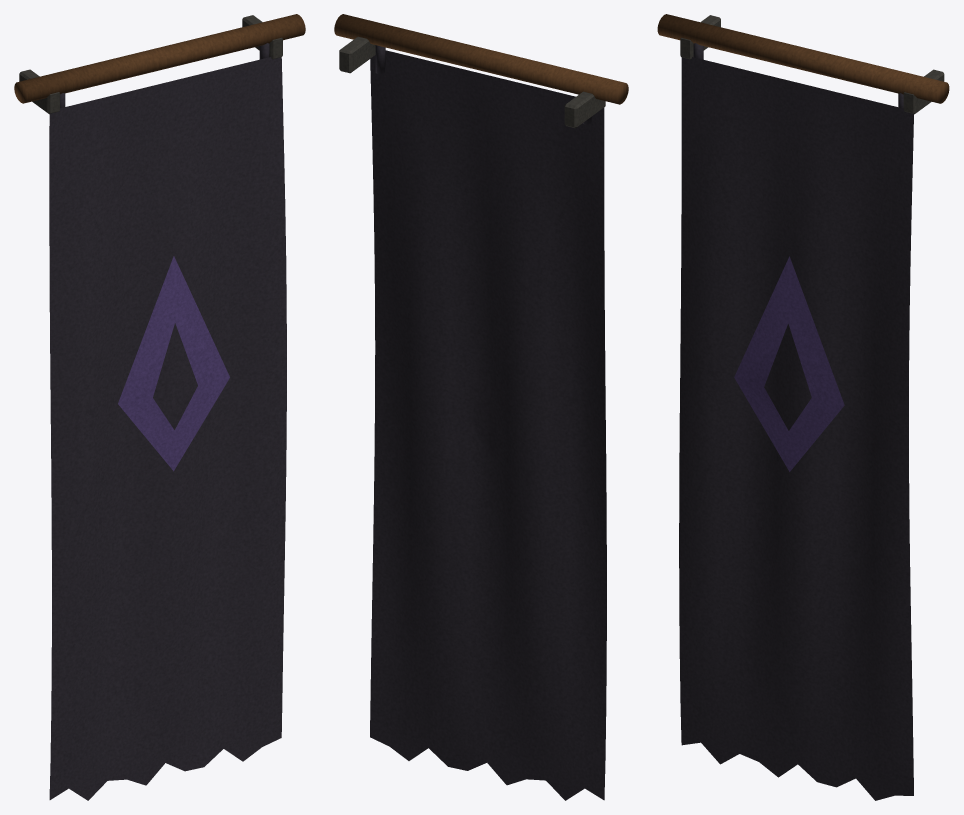
File: arena-banner.glb
The picture shows the model from 3 angles, left to right: view 1: azimuth 30°, elevation 25°; view 2: azimuth 150°, elevation 25°; view 3: azimuth 330°, elevation 25°; orthographic projection.
Parts seen in each view (by area): view 1: arena-banner; view 2: arena-banner; view 3: arena-banner.
Boxes of the visible parts, <box> form: arena-banner: <box>14,14,305,800</box>; arena-banner: <box>334,14,628,800</box>; arena-banner: <box>657,14,949,800</box>.
Bounding box in the file's own units: 1.2 × 3 × 0.3.
Materials: 2 (2 with a texture image).
